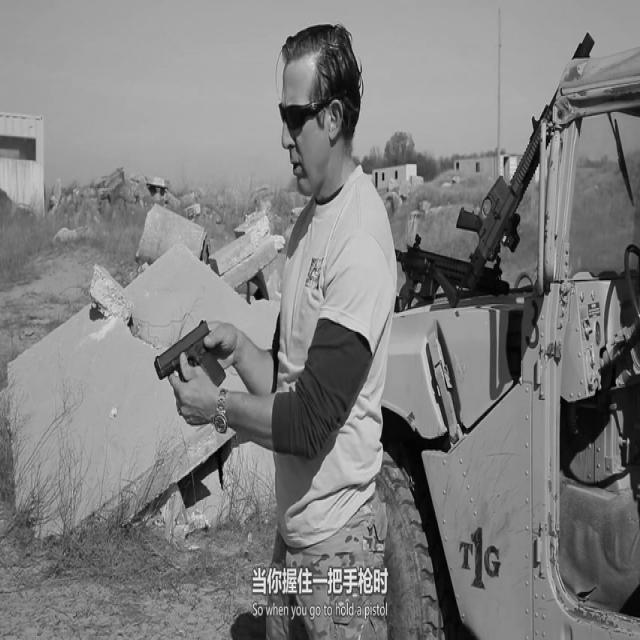Hand-Gun: (116, 256, 251, 492)
